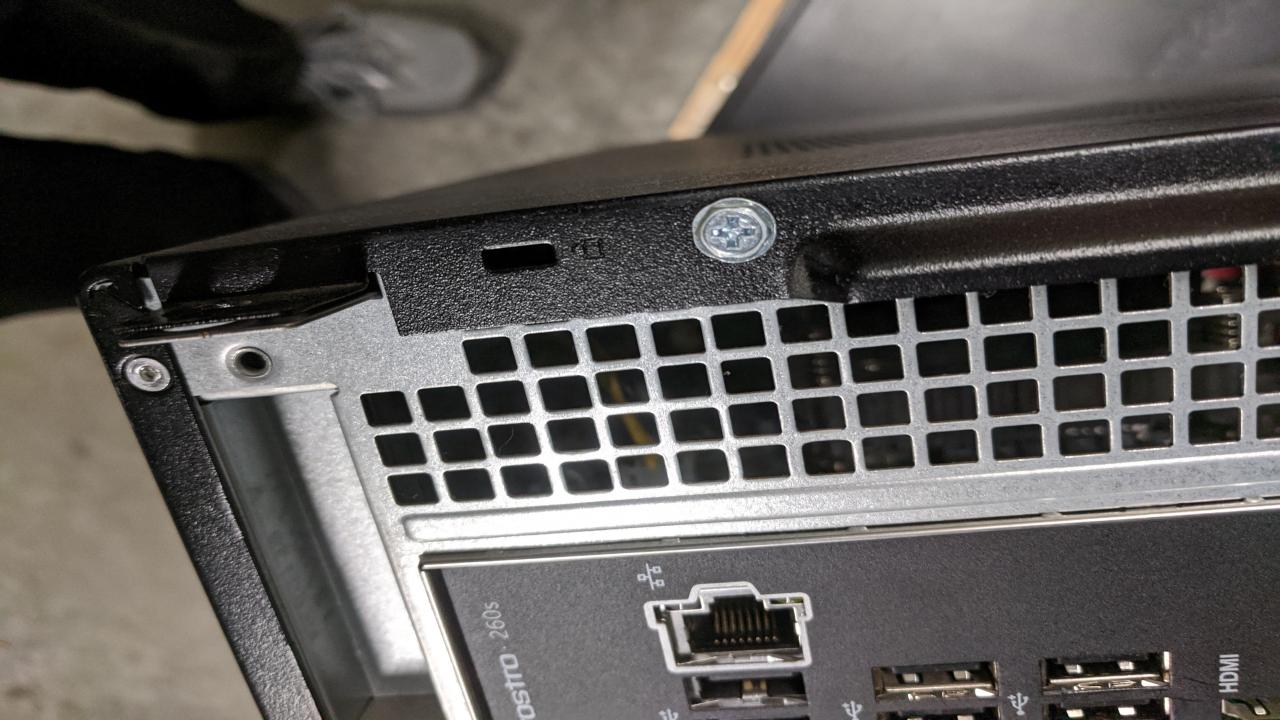CRS: (695, 205, 773, 261)
